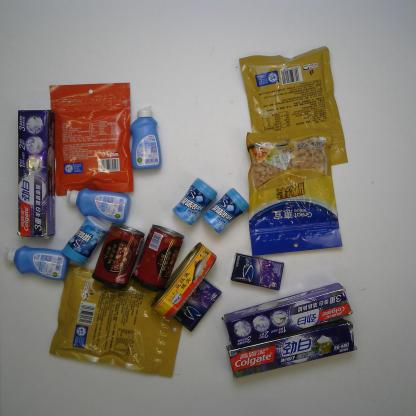Canned Food: (150, 242, 217, 322), (91, 221, 145, 292), (131, 224, 185, 292)
Dried Fruit: (49, 264, 183, 378), (239, 45, 350, 166), (245, 130, 344, 257), (49, 79, 135, 197)
Gum: (173, 278, 222, 332), (60, 214, 109, 266), (202, 187, 250, 235), (230, 252, 285, 292), (172, 178, 217, 226)
Personal Hygiene: (222, 282, 353, 350), (225, 317, 357, 379), (18, 108, 56, 238), (64, 186, 132, 224), (5, 244, 70, 282), (130, 105, 162, 171)
